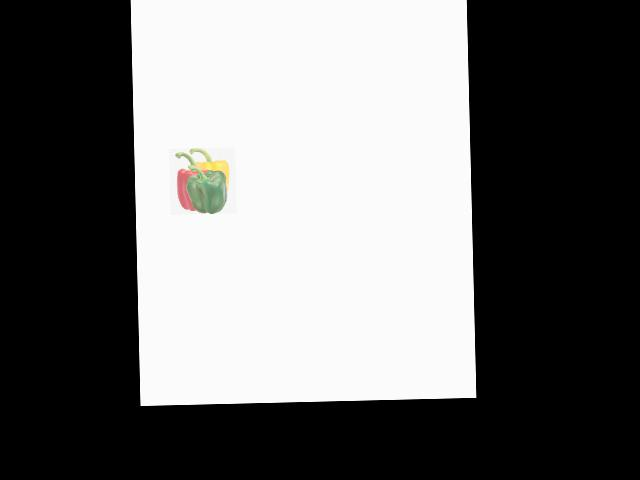bell_pepper: (168, 150, 208, 212)
